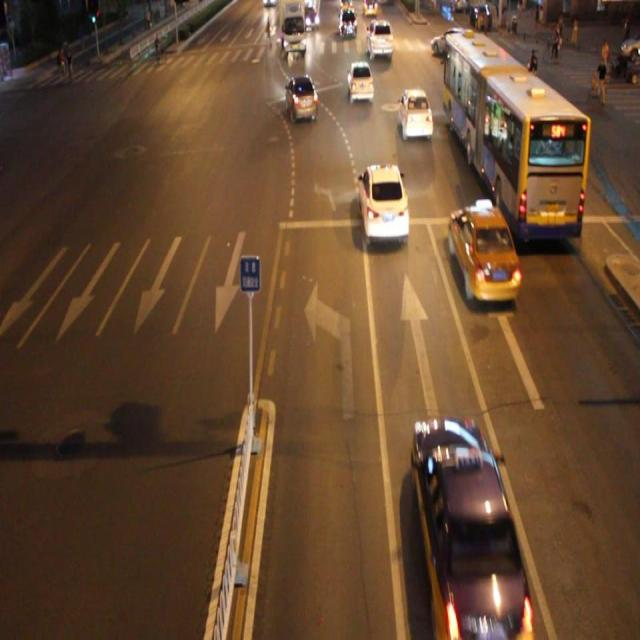car: (412, 416, 533, 640), (449, 204, 518, 304), (358, 162, 407, 240), (398, 88, 432, 140), (285, 73, 318, 124), (345, 60, 373, 104)
van: (444, 32, 582, 238)
